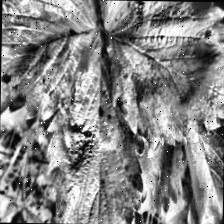Leaf Spot: (42, 35, 147, 224), (101, 0, 224, 147), (0, 0, 99, 121)
